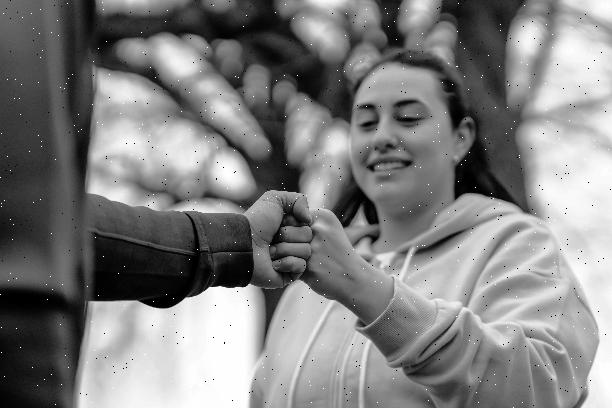Rock: (235, 184, 316, 296), (294, 204, 358, 302)
